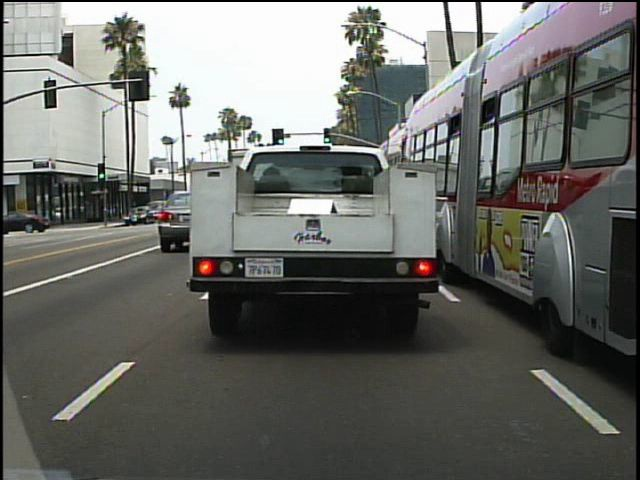person: (18, 207, 37, 241)
